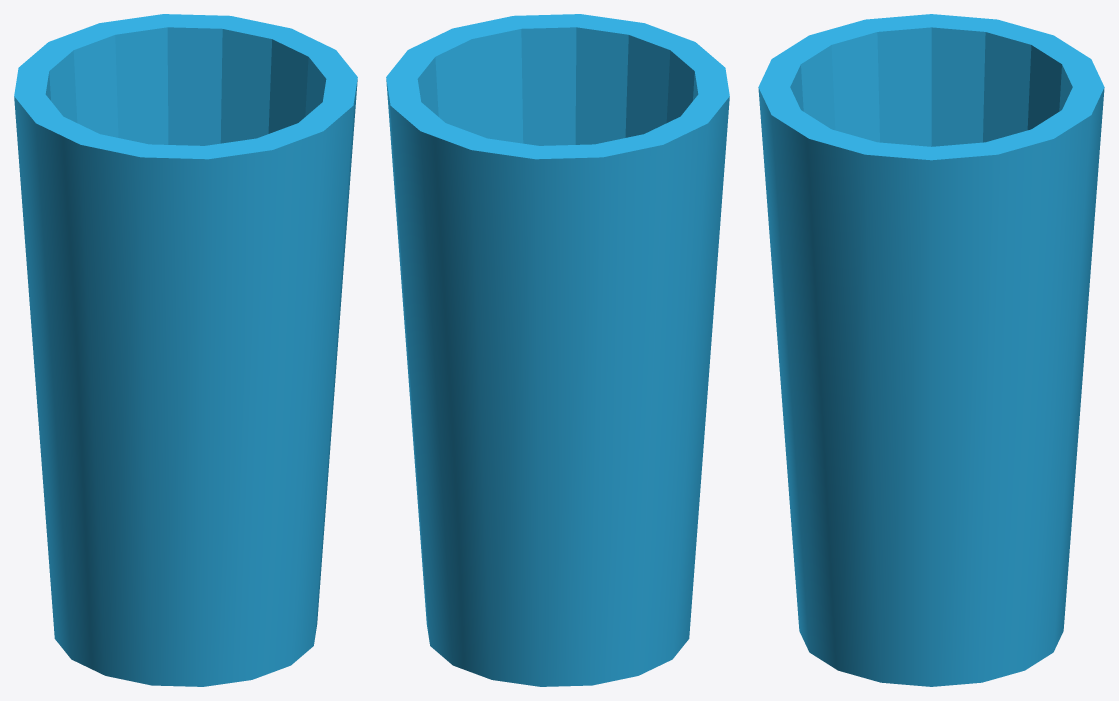
The model's file is SM_glass_03.fbx.
3 renders of one model, left to right at view 1: azimuth 30°, elevation 25°; view 2: azimuth 150°, elevation 25°; view 3: azimuth 270°, elevation 25°, orthographic.
Parts seen in each view (by area): view 1: glass_03; view 2: glass_03; view 3: glass_03.
Boxes of the visible parts, box(x1,y1,x2,y2) form: glass_03: box(14, 14, 357, 686); glass_03: box(386, 14, 729, 686); glass_03: box(758, 14, 1104, 686).
Bounding box in the file's own units: 15.5 × 26.88 × 15.5.
